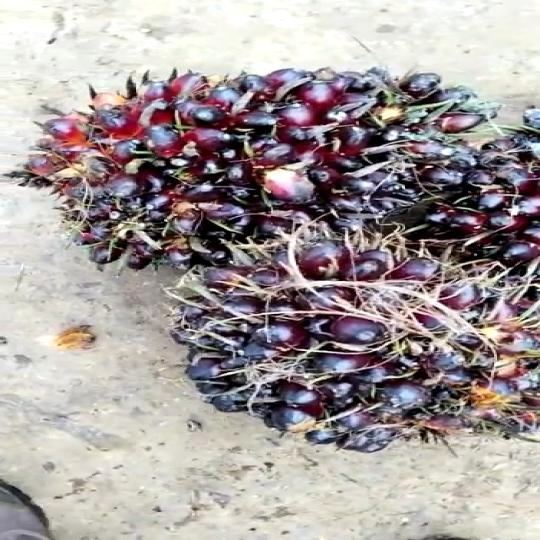kurang masak: (13, 73, 540, 257), (188, 251, 540, 444)
